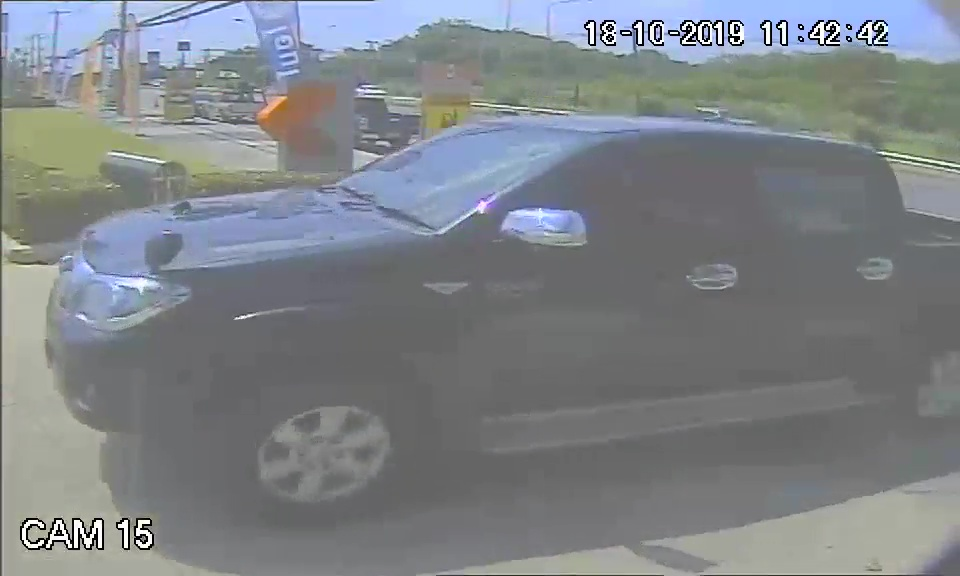pickup: (43, 104, 957, 513)
